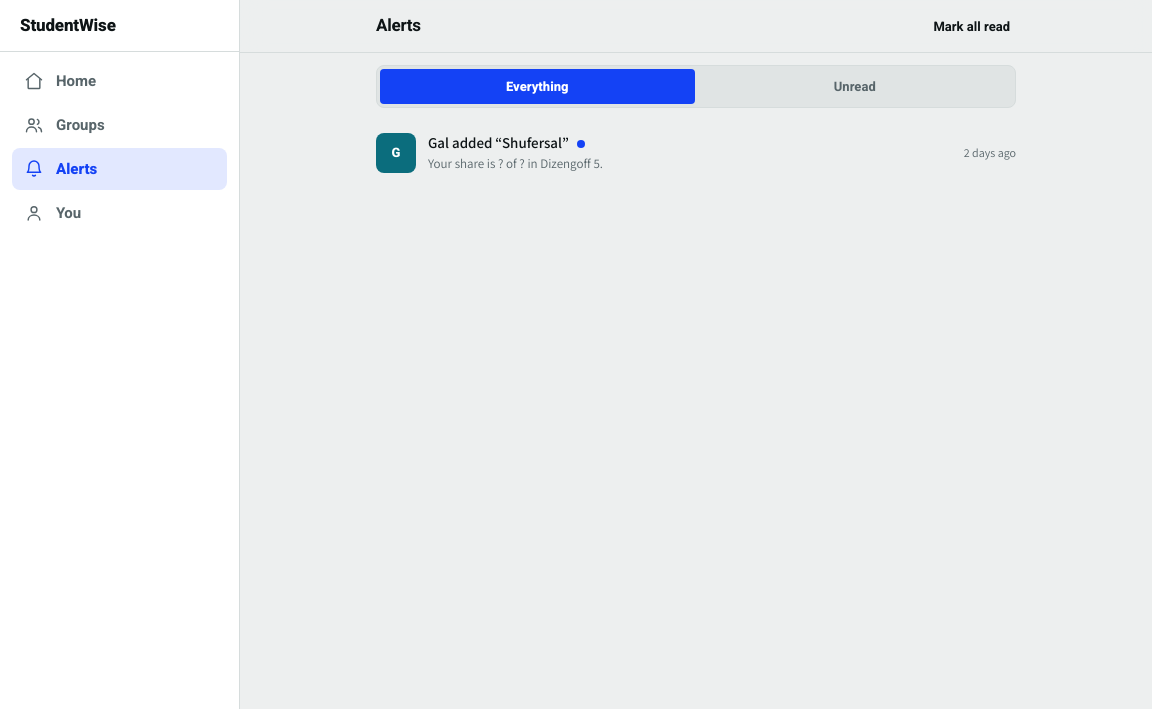
Test: back from an expense opened in Alerts › returns to Alerts, not to the group
The image size is (1152, 709).
Click the link "Shufersal".
click(396, 152)  # box left=360, top=120, right=1032, bottom=185
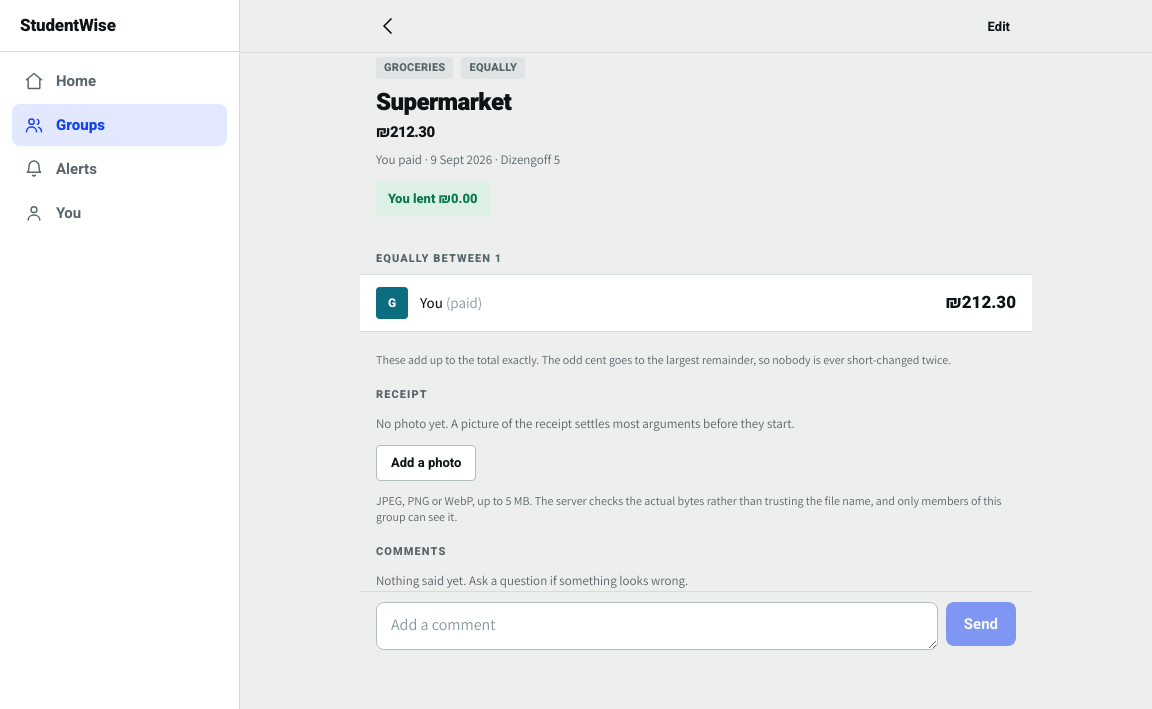
Click the button named "Back".
click(388, 26)  # box left=368, top=6, right=408, bottom=46
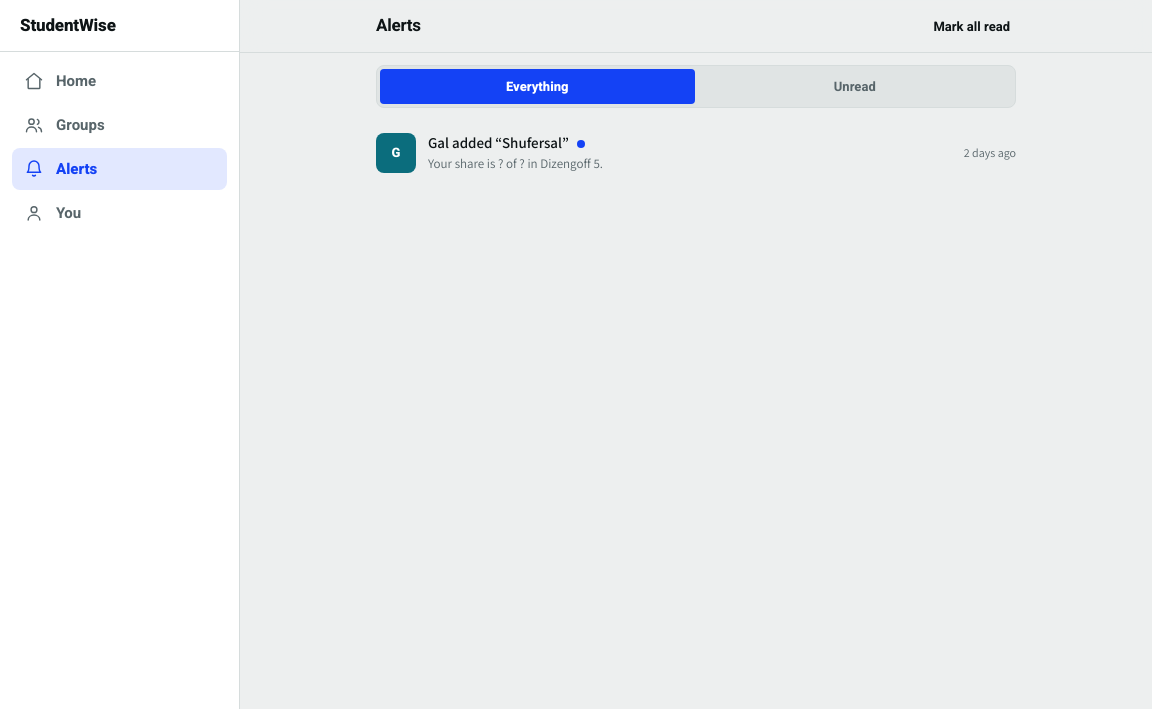
Expected: the heading "Alerts" is shown, left=376, top=13, right=421, bottom=38
